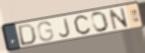C: (73, 14, 92, 35)
D: (18, 23, 38, 47)
G: (36, 20, 55, 42)
J: (59, 17, 72, 39)
N: (107, 6, 131, 31)
O: (90, 11, 111, 33)
